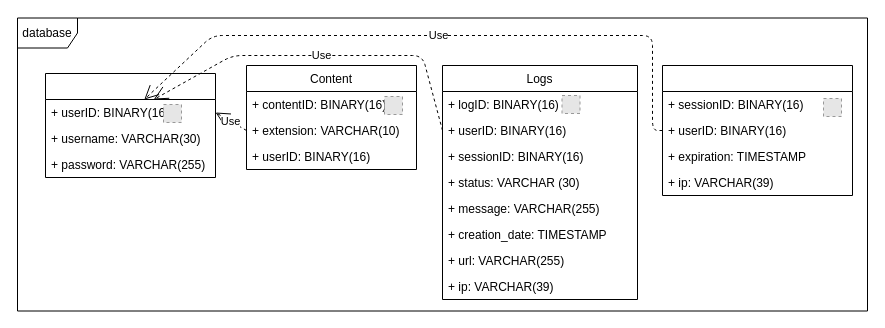
This 885x328 diagram has some shape labels left out. Grey dashed boxes stand in for pictures. Here are the shapes that lost their labels. From the top down, the box of each, then its label:
(44, 72, 216, 178): Users
(662, 64, 852, 196): Sessions
